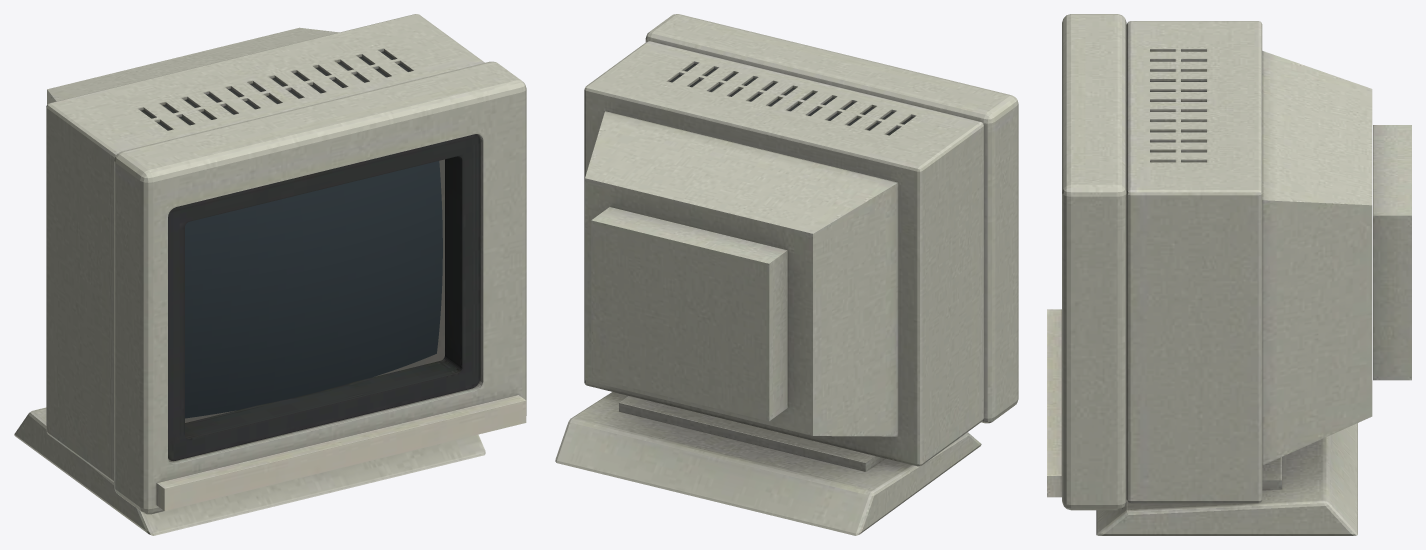
Rendered from homecrt-c.glb.
3 views of the same model, side by side, from view 1: azimuth 30°, elevation 25°; view 2: azimuth 150°, elevation 25°; view 3: azimuth 270°, elevation 25° (orthographic). The views are drawn at different scales.
Visible parts, largest first — view 1: case-baked, screen-glass; view 2: case-baked; view 3: case-baked.
Part boxes in pixels (x1,y1,x2,y2): case-baked: [14, 14, 526, 535]; screen-glass: [185, 161, 442, 418]; case-baked: [555, 14, 1018, 535]; case-baked: [1047, 14, 1411, 535].
Size of the model in its own units: 0.325 by 0.307 by 0.282.
Materials: 2 (1 with a texture image).
